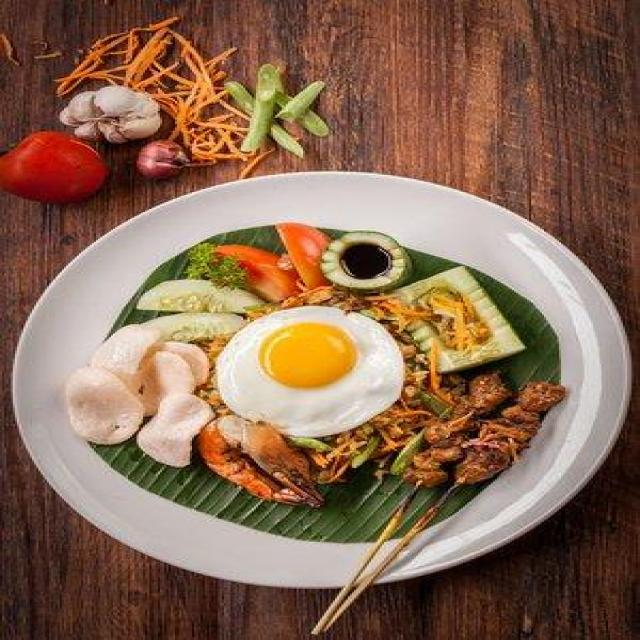Nasi Goreng: (64, 220, 565, 510)
